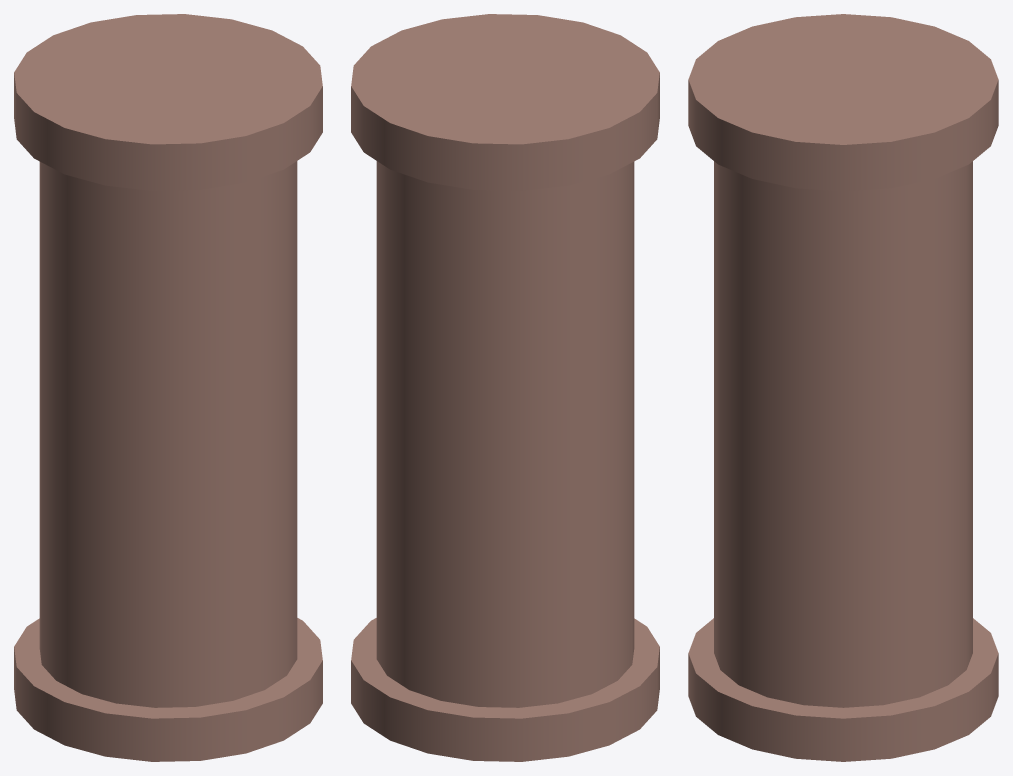
Rendered from Platform.fbx.
3 renders of one model, left to right at view 1: azimuth 30°, elevation 25°; view 2: azimuth 150°, elevation 25°; view 3: azimuth 270°, elevation 25°, orthographic.
Visible parts, largest first — view 1: pCylinder1; view 2: pCylinder1; view 3: pCylinder1.
Boxes of the visible parts, bbox=[...] form: pCylinder1: bbox=[14, 14, 322, 761]; pCylinder1: bbox=[351, 14, 659, 761]; pCylinder1: bbox=[688, 14, 998, 761].
Size of the model in its own units: 622 by 1366 by 622.
